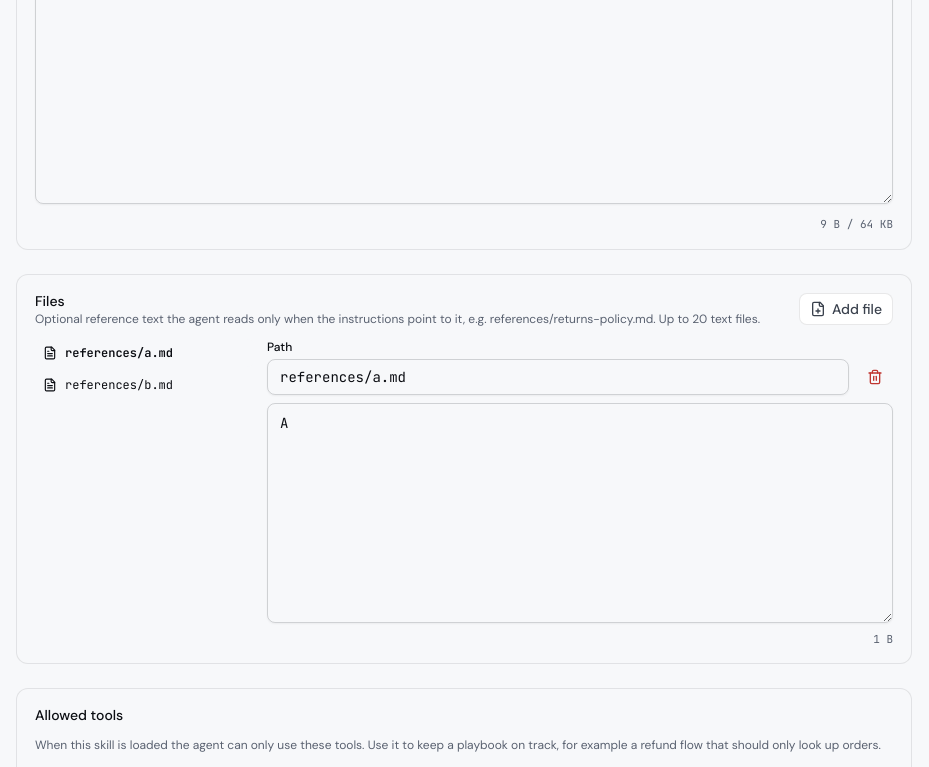
Test case: WorkspaceSkillEditor › keeps the open file selected after saving
(page scrolled)
Click the button "references/b.md" at (145, 384), box [35, 370, 255, 398]
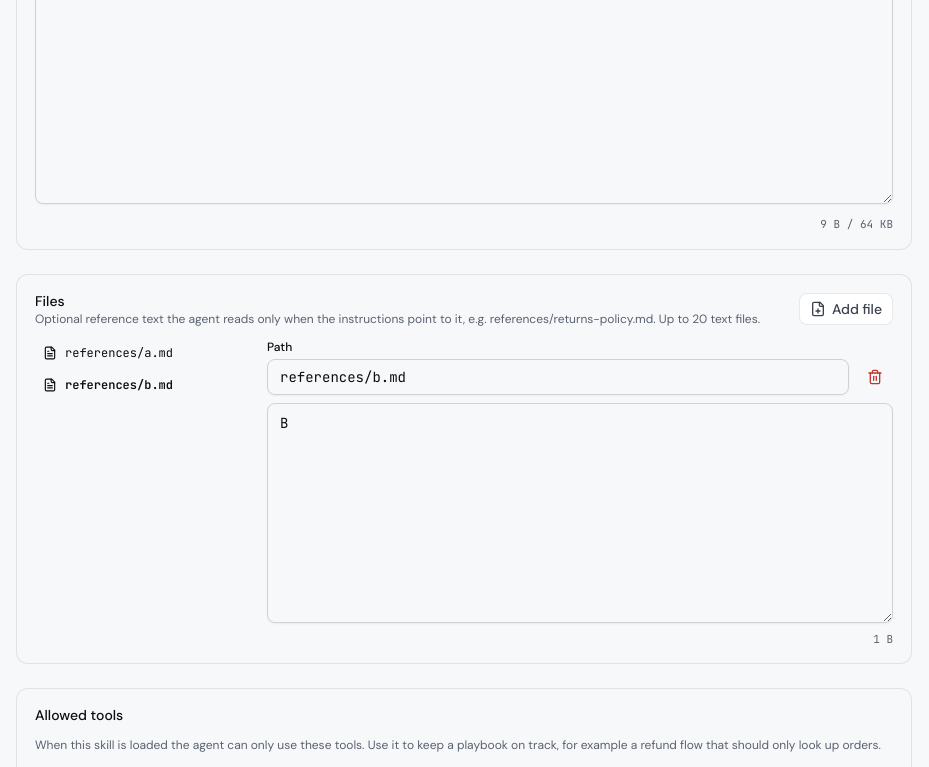
Replace the text in the text box named "Content of references/b.md" with "B2" at (580, 512), box [267, 402, 893, 622]
(page scrolled)
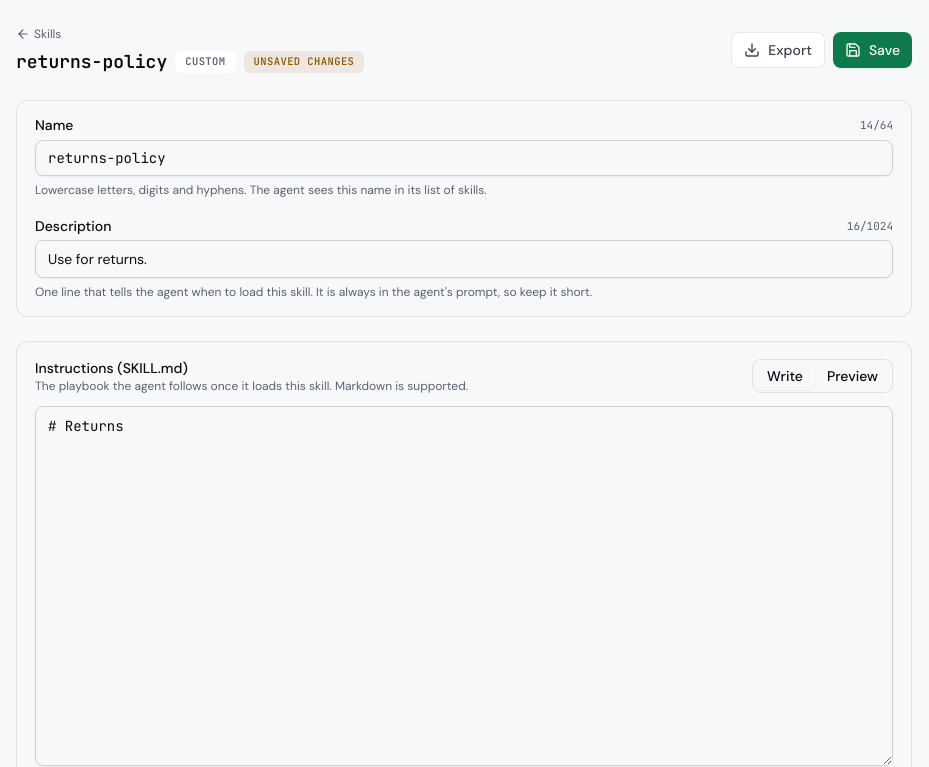
Click the button "Save" at (872, 50), box [833, 32, 912, 68]
(page scrolled)
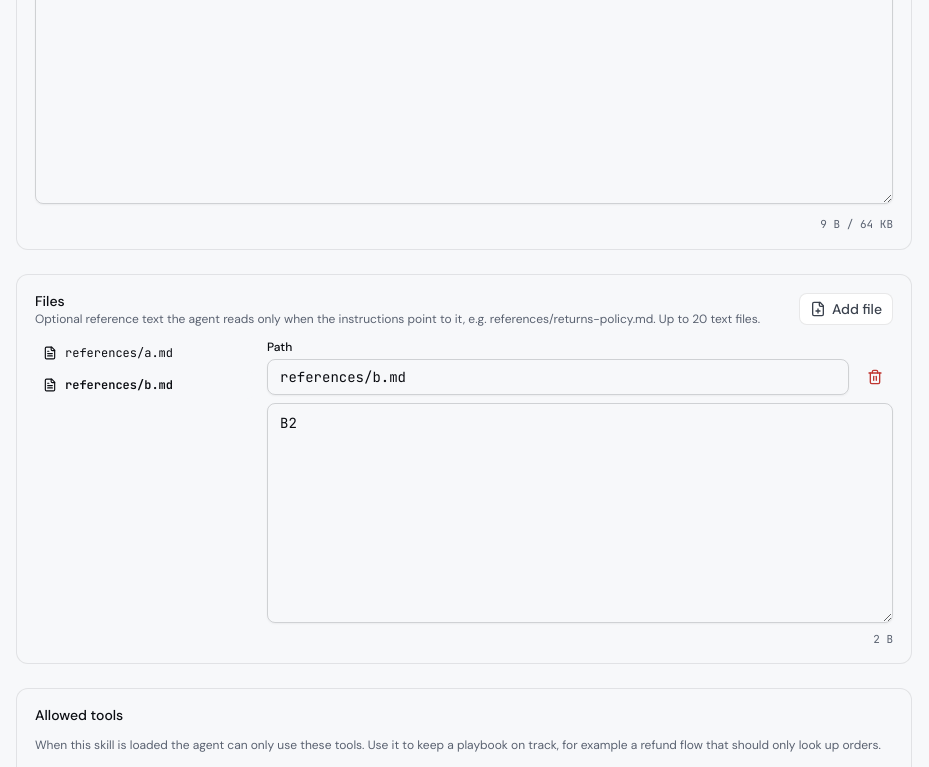
Now the field labelled "Path" holds "references/b.md", box [267, 358, 849, 394]
Now the text "Unsaved changes" is gone
